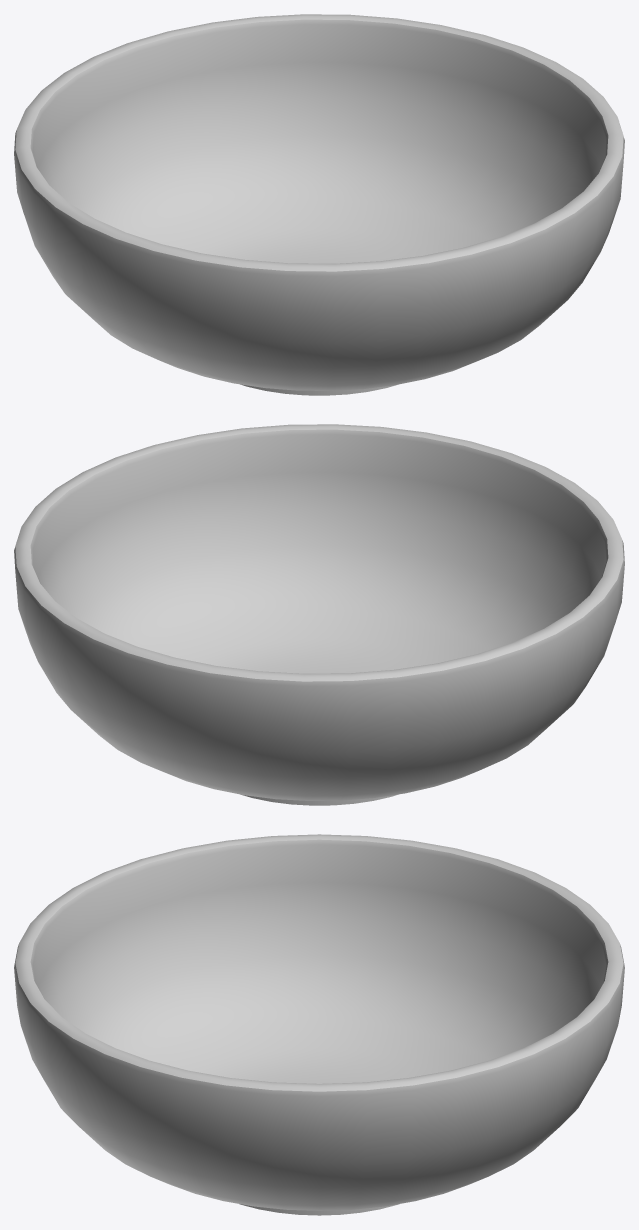
File: rice bowl.fbx
3 views of the same model, one above another, from view 1: azimuth 30°, elevation 25°; view 2: azimuth 150°, elevation 25°; view 3: azimuth 270°, elevation 25° (orthographic).
Parts seen in each view (by area): view 1: rice_bowl; view 2: rice_bowl; view 3: rice_bowl.
Part boxes in pixels (x1,y1,x2,y2): rice_bowl: (14, 14, 624, 395); rice_bowl: (14, 424, 624, 805); rice_bowl: (14, 834, 624, 1215).
Size of the model in its own units: 213 by 76.4 by 213.
1 material, 1 textured.
